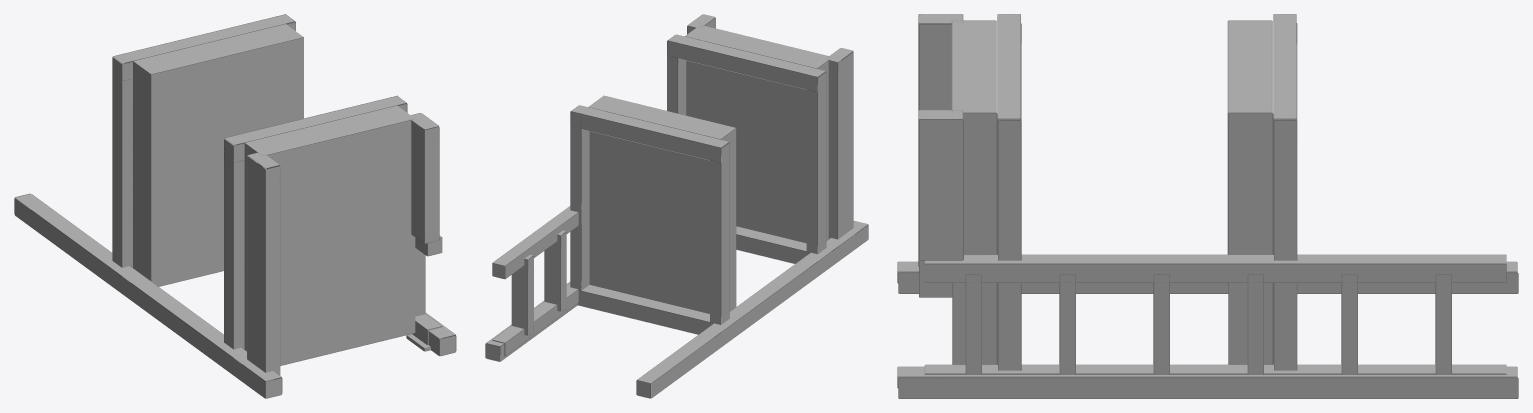
The model's file is pz_house_bunk_red_foot.obj.
The picture shows the model from 3 angles, left to right: view 1: azimuth 30°, elevation 25°; view 2: azimuth 150°, elevation 25°; view 3: azimuth 270°, elevation 25°; orthographic projection. The views are drawn at different scales.
Visible parts, largest first — view 1: pz_house_bunk_red_foot; view 2: pz_house_bunk_red_foot; view 3: pz_house_bunk_red_foot.
Boxes of the visible parts, x1,y1,x2,y2 form: pz_house_bunk_red_foot: (14, 14, 456, 398); pz_house_bunk_red_foot: (485, 14, 868, 398); pz_house_bunk_red_foot: (897, 14, 1518, 398).
Bounding box in the file's own units: 0.9 × 1 × 2.05.
Materials: 1 (1 with a texture image).
